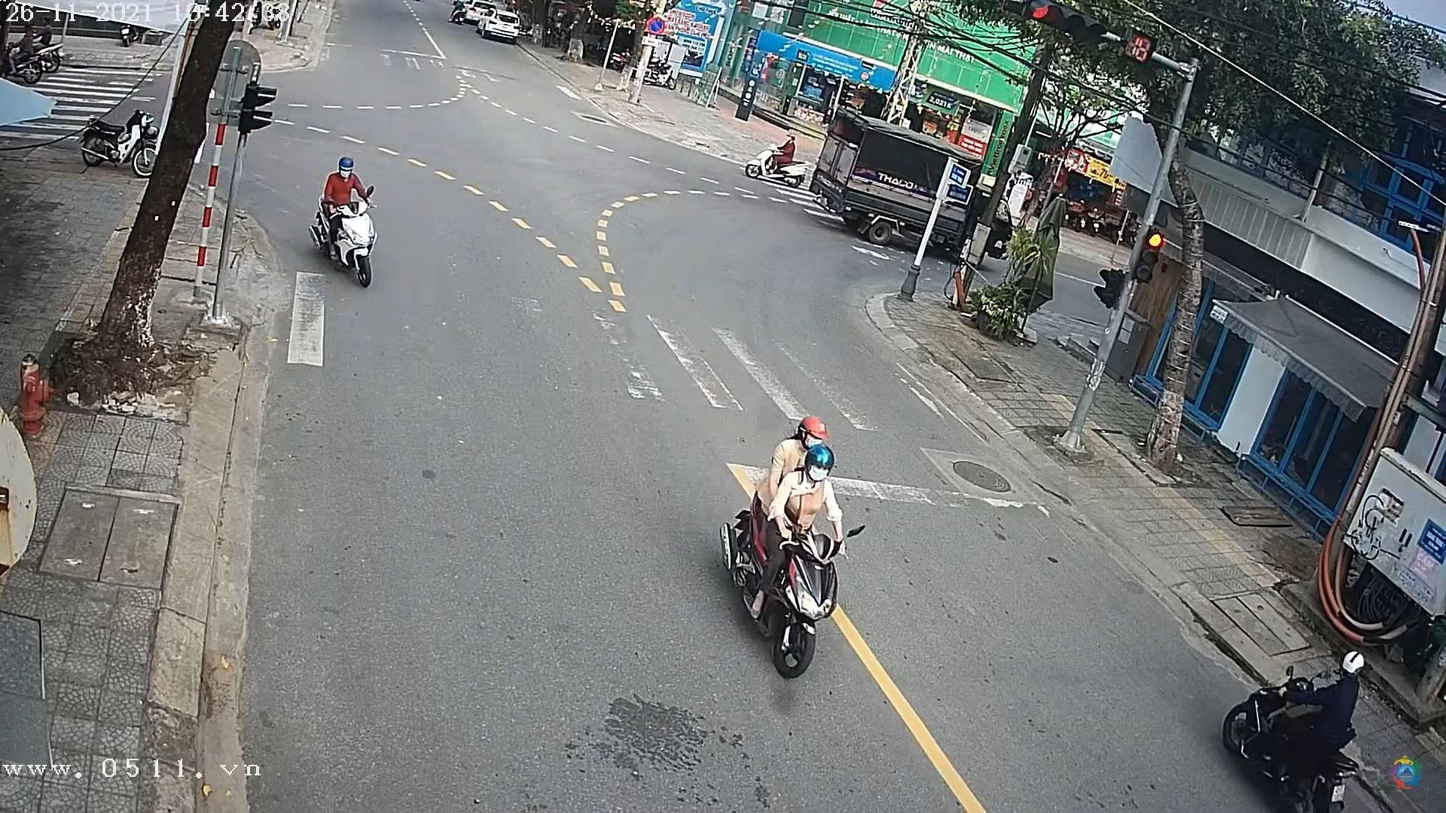motorbike: (716, 488, 869, 680), (311, 202, 378, 272), (5, 31, 67, 85)
